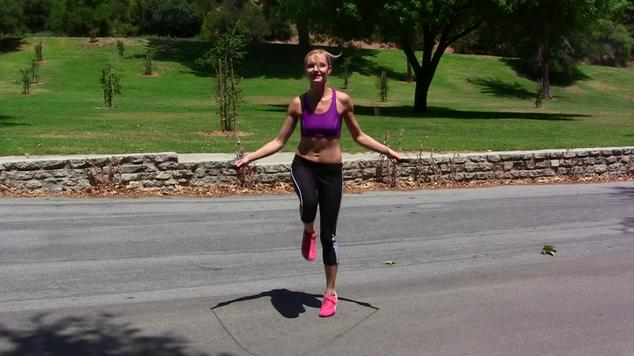stay: (99, 69, 117, 104)
